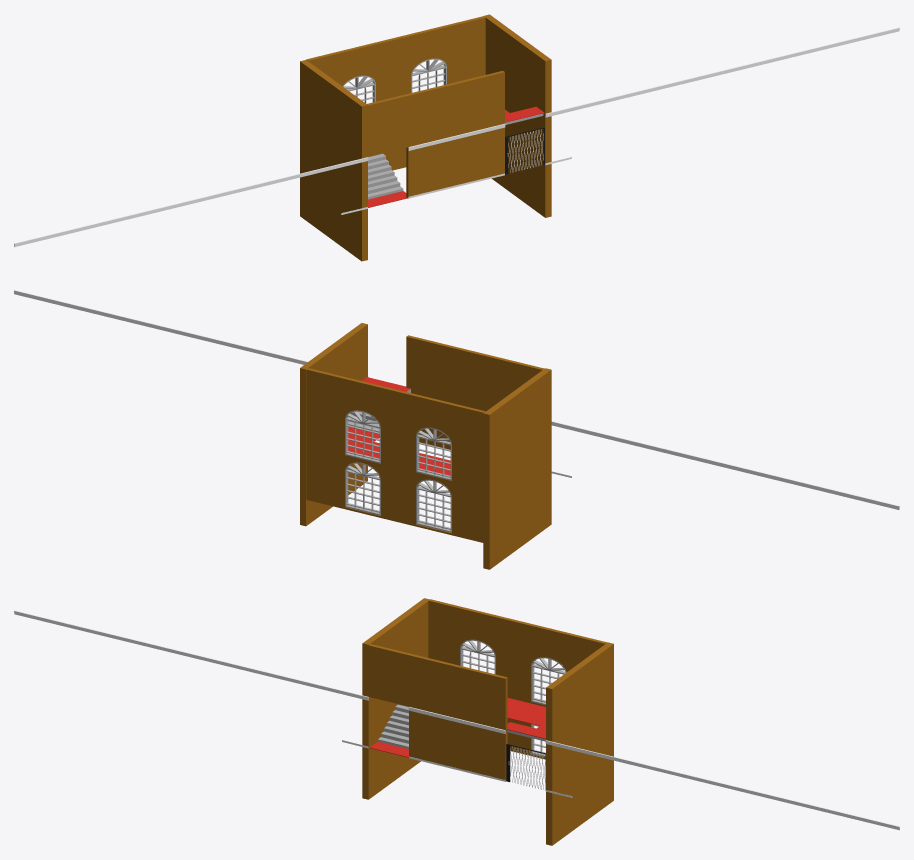
Rendered from new_5F_hall.fbx.
3 views of the same model, one above another, from view 1: azimuth 30°, elevation 25°; view 2: azimuth 150°, elevation 25°; view 3: azimuth 330°, elevation 25° (orthographic).
Visible parts, largest first — view 1: S_wall2, S_wall1, LH_middlewall5.001, S_windowframe, LH_middlewall5, LH_woodup1, LH_woodup2, Stair2, IB_ironbar.001, S_window2; view 2: S_wall2, S_windowframe, S_windowframe.001, LH_middlewall5.001, S_wall1, LH_woodup2, LH_woodup1, S_window1.001, S_window1, S_window2, S_window2.001, S_floor (+1 smaller); view 3: S_wall1, S_windowframe, LH_middlewall5.001, S_wall2, LH_middlewall5, LH_woodup1, LH_woodup2, Stair2, S_floor, IB_ironbar.001, S_window2, S_window1 (+1 smaller).
Part boxes in pixels (left/top/right/bottom): S_wall2: left=300, top=60, right=367, bottom=261; S_wall1: left=484, top=14, right=551, bottom=217; LH_middlewall5.001: left=367, top=70, right=504, bottom=156; S_windowframe: left=306, top=16, right=485, bottom=101; LH_middlewall5: left=406, top=127, right=504, bottom=198; LH_woodup1: left=545, top=27, right=899, bottom=117; LH_woodup2: left=14, top=157, right=368, bottom=247; Stair2: left=368, top=153, right=403, bottom=199; IB_ironbar.001: left=508, top=128, right=544, bottom=172; S_window2: left=411, top=58, right=446, bottom=92; S_wall2: left=483, top=368, right=551, bottom=569; S_windowframe: left=306, top=368, right=485, bottom=490; S_windowframe.001: left=306, top=447, right=483, bottom=542; LH_middlewall5.001: left=406, top=335, right=544, bottom=408; S_wall1: left=300, top=323, right=367, bottom=526; LH_woodup2: left=551, top=421, right=899, bottom=509; LH_woodup1: left=14, top=290, right=368, bottom=377; S_window1.001: left=416, top=479, right=451, bottom=532; S_window1: left=416, top=427, right=451, bottom=480; S_window2: left=345, top=410, right=380, bottom=463; S_window2.001: left=345, top=462, right=380, bottom=515; S_floor: left=348, top=427, right=450, bottom=475; S_wall1: left=546, top=642, right=613, bottom=845; S_windowframe: left=428, top=599, right=607, bottom=706; LH_middlewall5.001: left=368, top=644, right=507, bottom=730; S_wall2: left=362, top=598, right=429, bottom=799; LH_middlewall5: left=409, top=710, right=507, bottom=781; LH_woodup1: left=545, top=740, right=899, bottom=830; LH_woodup2: left=14, top=610, right=368, bottom=700; Stair2: left=377, top=704, right=408, bottom=748; S_floor: left=507, top=698, right=545, bottom=730; IB_ironbar.001: left=510, top=746, right=545, bottom=790; S_window2: left=531, top=657, right=566, bottom=705; S_window1: left=460, top=639, right=495, bottom=674.
Bounding box in the file's own units: 5040 × 853 × 616.
